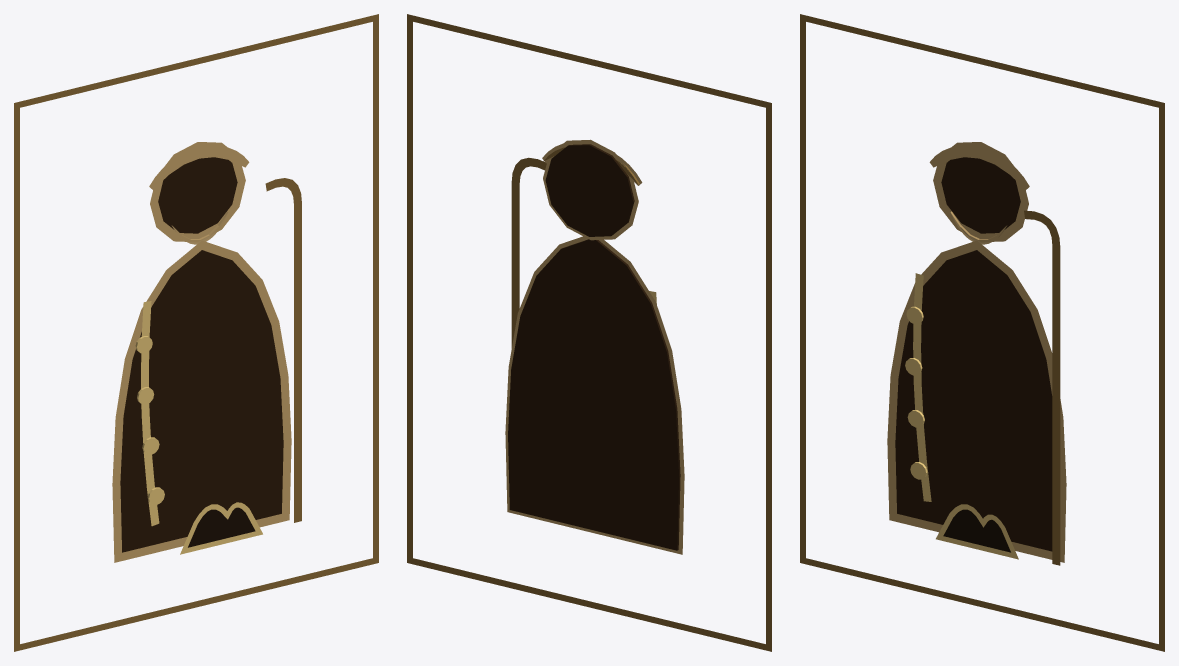
The model's file is npc-sargis.glb.
The picture shows the model from 3 angles, left to right: view 1: azimuth 30°, elevation 25°; view 2: azimuth 150°, elevation 25°; view 3: azimuth 330°, elevation 25°; orthographic projection.
Parts seen in each view (by area): view 1: npc-sargis; view 2: npc-sargis; view 3: npc-sargis.
Part boxes in pixels (box(x1,y1,x2,y2)): npc-sargis: box(14, 14, 378, 651); npc-sargis: box(407, 14, 771, 651); npc-sargis: box(800, 14, 1164, 651).
Size of the model in its own units: 1.14 by 1.64 by 0.0829.
